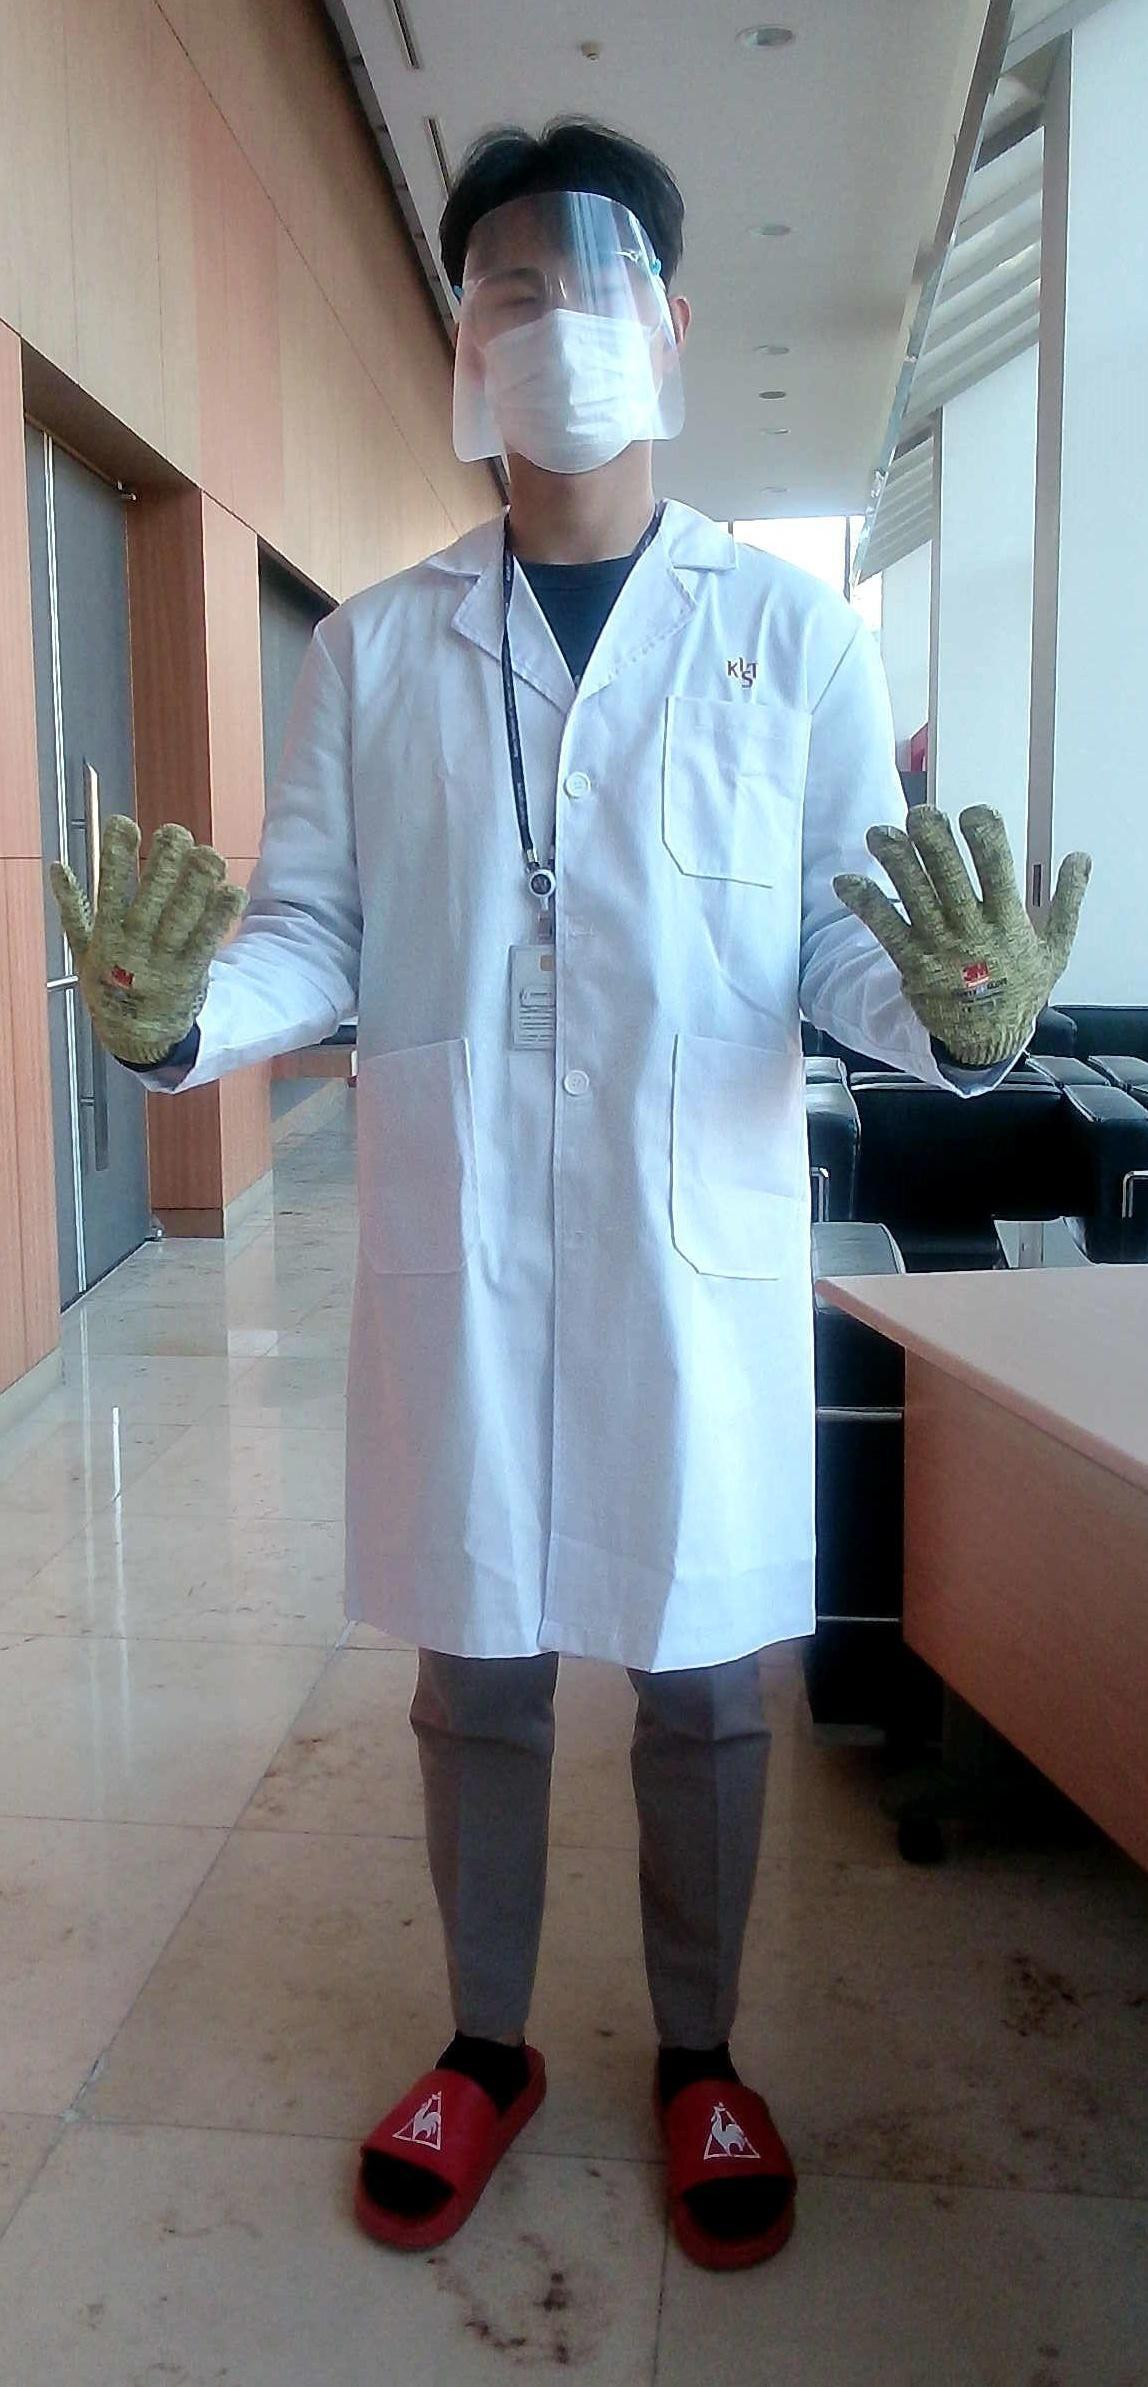lab_coat: (241, 521, 924, 1720)
